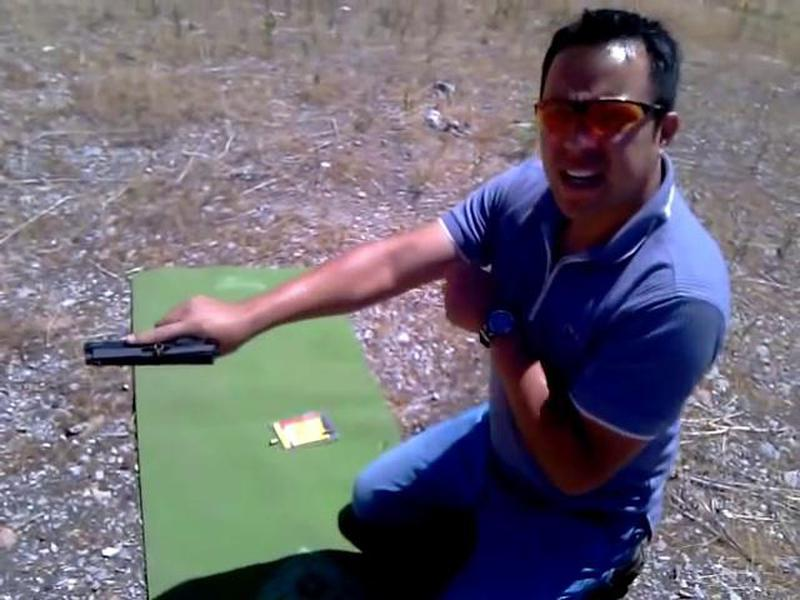Pistola: (75, 299, 245, 374)
